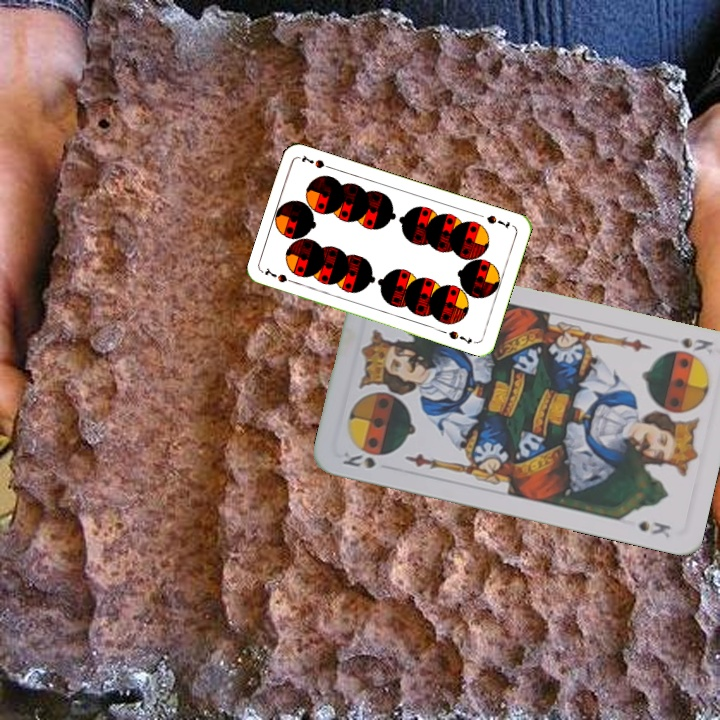S7: (261, 264, 300, 286), (482, 211, 512, 232)
SK: (678, 333, 716, 356), (338, 450, 378, 471)
